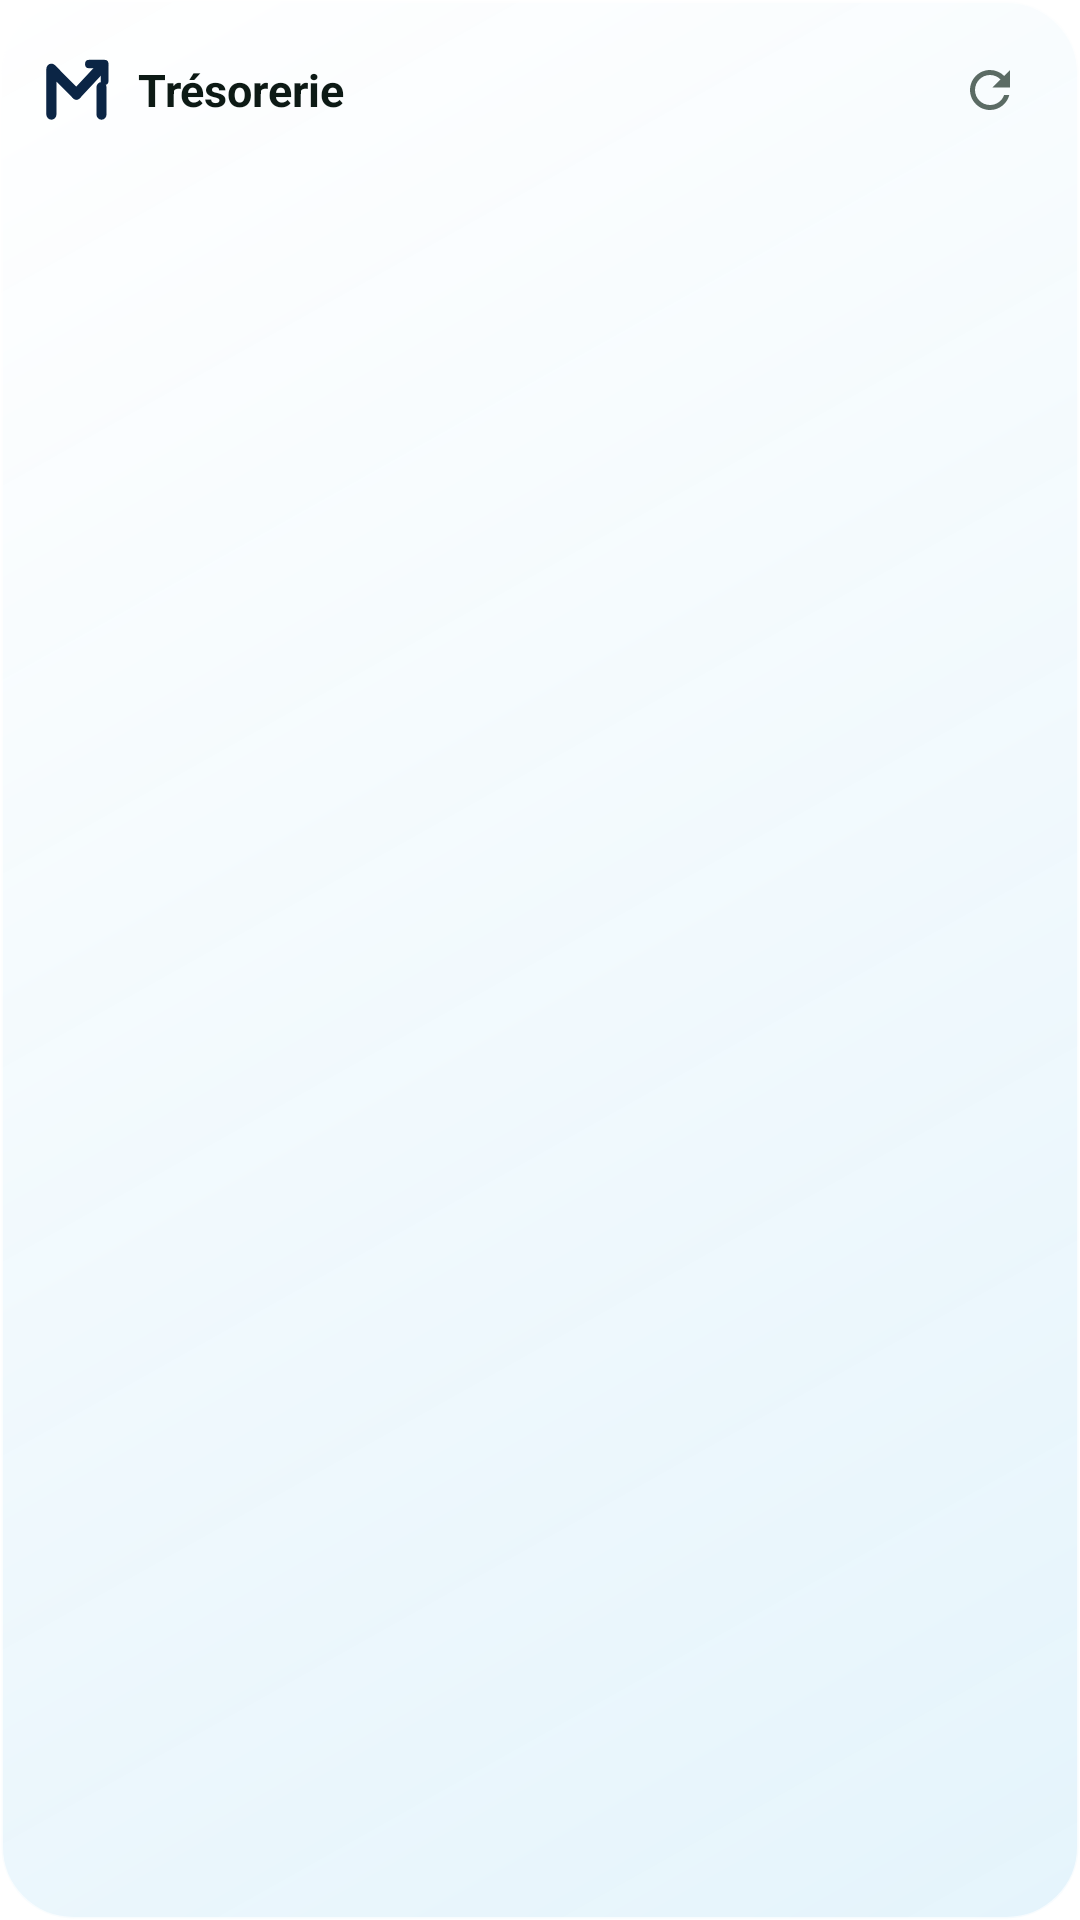

Named icons in this screenshot (1080w x 1920h) and their bounding boxes, (x1, y1, x2, y2):
Actualiser: (970, 70, 1010, 110)
